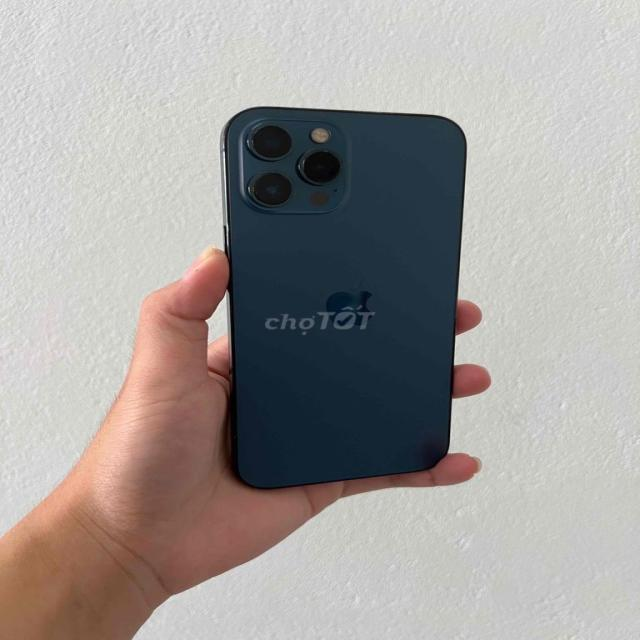gen_12_13: (218, 97, 459, 496)
